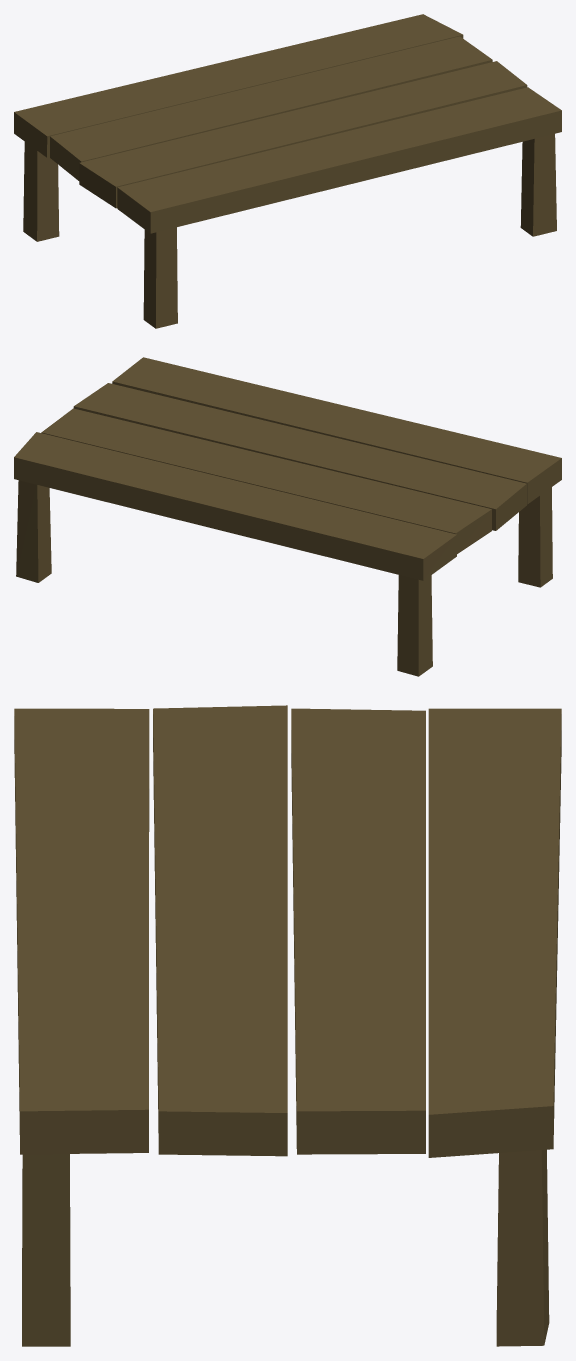
File: Table 06.FBX
3 renders of one model, top to bottom at view 1: azimuth 30°, elevation 25°; view 2: azimuth 150°, elevation 25°; view 3: azimuth 270°, elevation 25°, orthographic. The views are drawn at different scales.
Visible parts, largest first — view 1: Table 06; view 2: Table 06; view 3: Table 06.
Boxes of the visible parts, x1,y1,x2,y2 form: Table 06: (14,14,561,328); Table 06: (14,357,561,676); Table 06: (14,705,561,1346).
Bounding box in the file's own units: 284 × 77.51 × 160.
